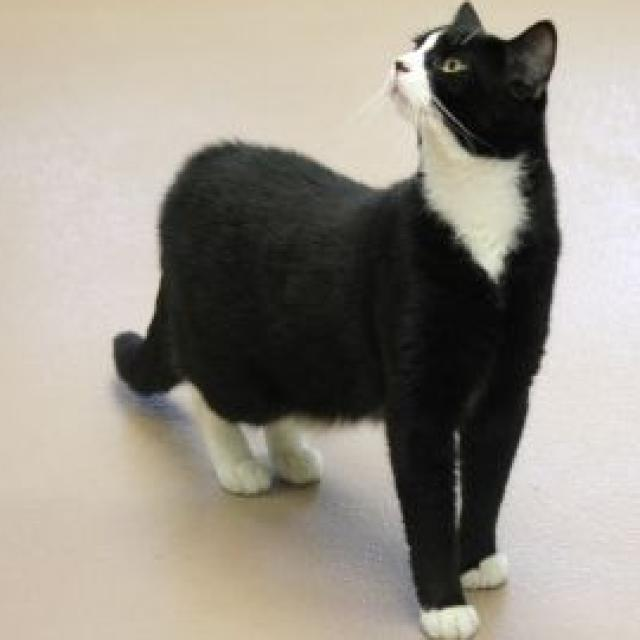Tuxedo: (107, 0, 564, 640)
